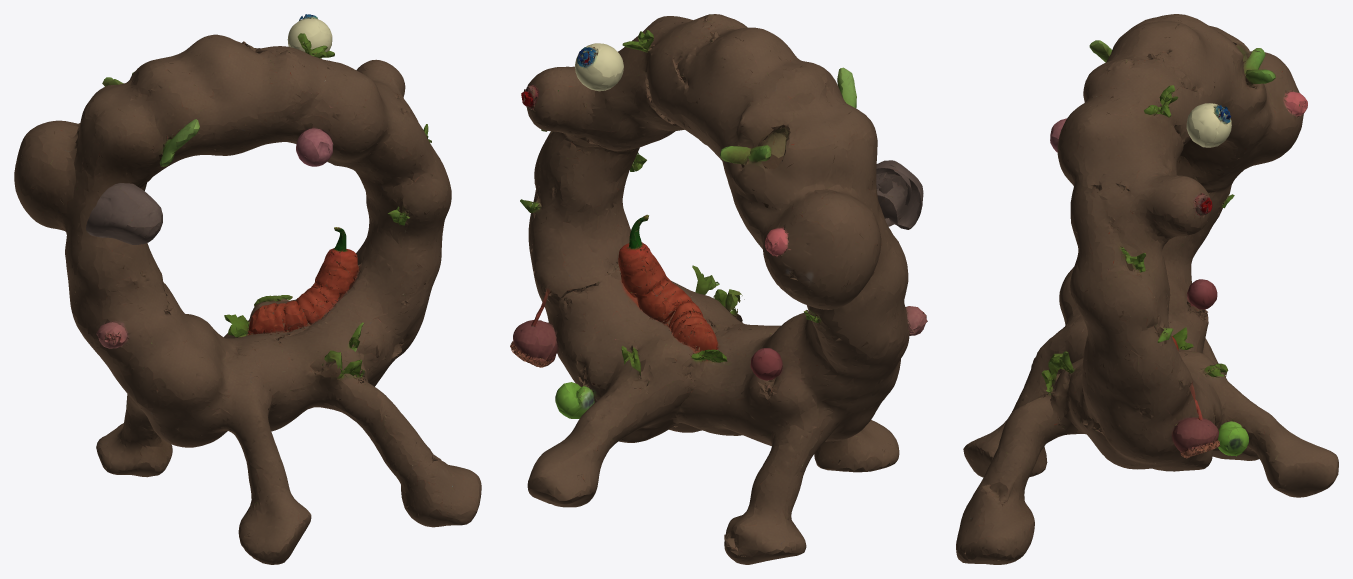
The model's file is annular-tripod-wide-slant-clay-depth-normal-prior-led-invention-seed718301.glb.
3 renders of one model, left to right at view 1: azimuth 30°, elevation 25°; view 2: azimuth 150°, elevation 25°; view 3: azimuth 270°, elevation 25°, orthographic. The views are drawn at different scales.
Visible parts, largest first — view 1: world; view 2: world; view 3: world.
Part boxes in pixels (x1,y1,x2,y2): world: [14, 14, 481, 564]; world: [510, 14, 927, 564]; world: [956, 14, 1338, 564].
Size of the model in its own units: 0.8402 by 0.9985 by 0.7375.
1 material, 1 textured.
